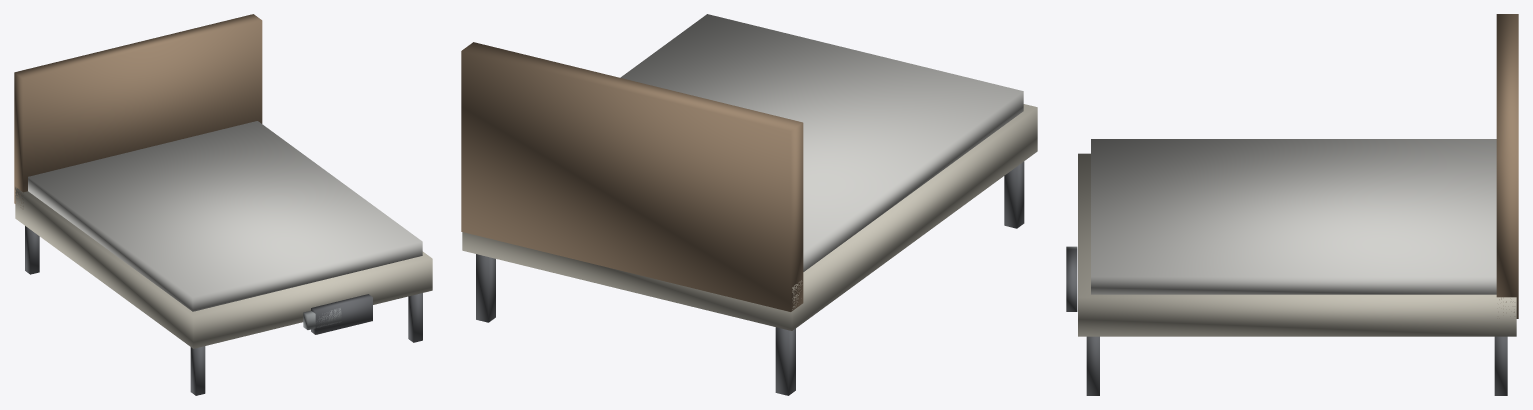
The model's file is motel_bed__weathered.glb.
3 views of the same model, side by side, from view 1: azimuth 30°, elevation 25°; view 2: azimuth 150°, elevation 25°; view 3: azimuth 270°, elevation 25° (orthographic). The views are drawn at different scales.
Parts seen in each view (by area): view 1: world; view 2: world; view 3: world.
Part boxes in pixels (left/top/right/bottom): world: left=14, top=14, right=432, bottom=395; world: left=461, top=14, right=1037, bottom=395; world: left=1066, top=14, right=1518, bottom=395.
Bounding box in the file's own units: 1.55 × 1.22 × 2.06.
